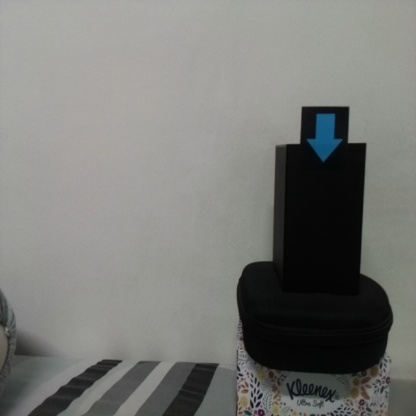id_2: (302, 106, 348, 173)
